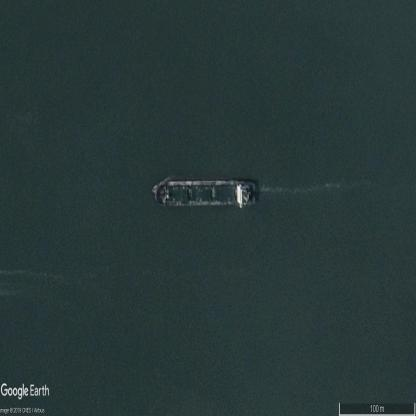ship: (154, 176, 262, 206)
